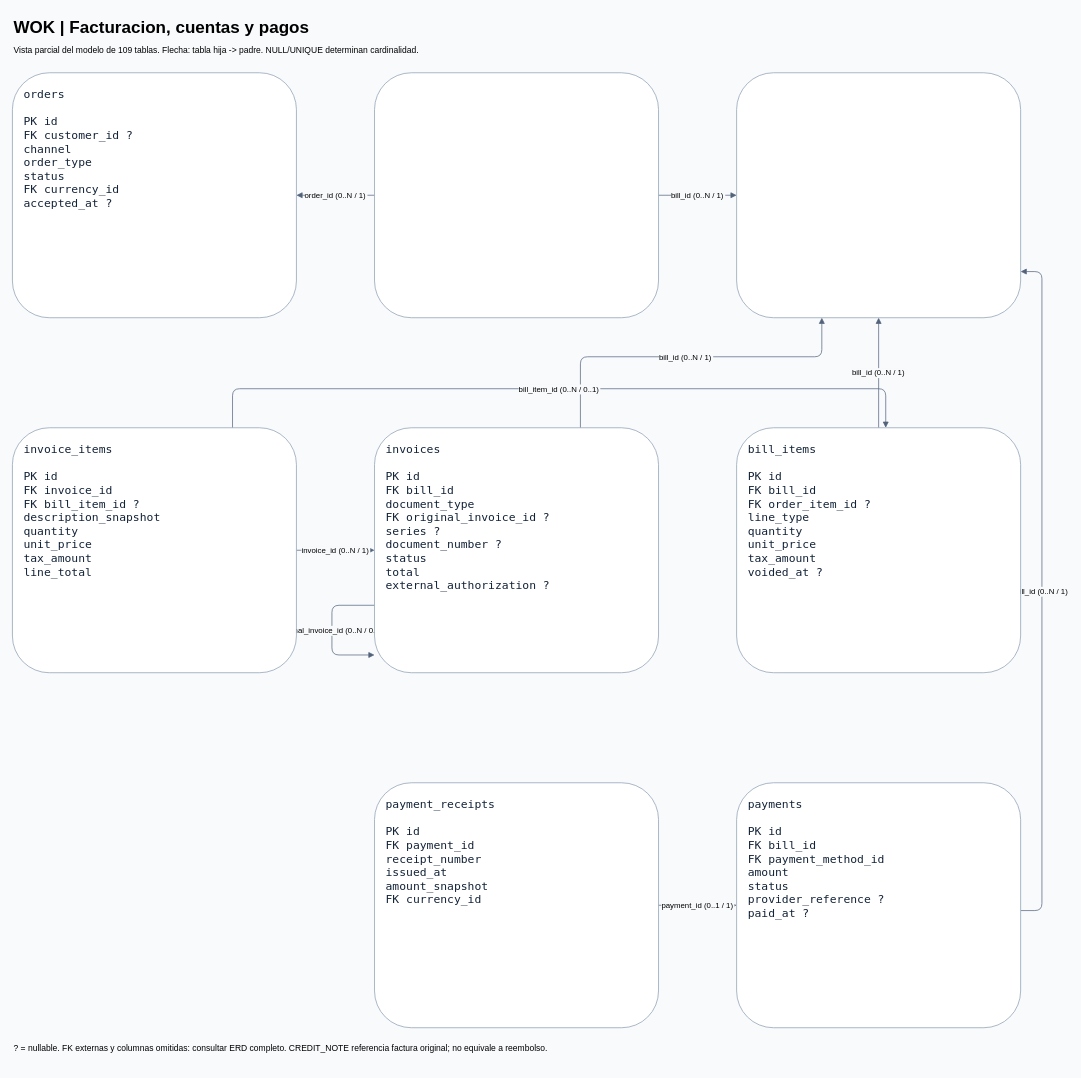
The diagram is 1081 pixels wide and 1078 high, and some of its shapes have lost their labels. The box of each missing label's shape, as (x1, y1, x2, y2) in pixels:
bill_orders PK id FK bill_id FK order_id: (374, 72, 659, 318)
bills PK id FK customer_id ? FK currency_id status issued_at ? closed_at ?: (736, 72, 1021, 318)
